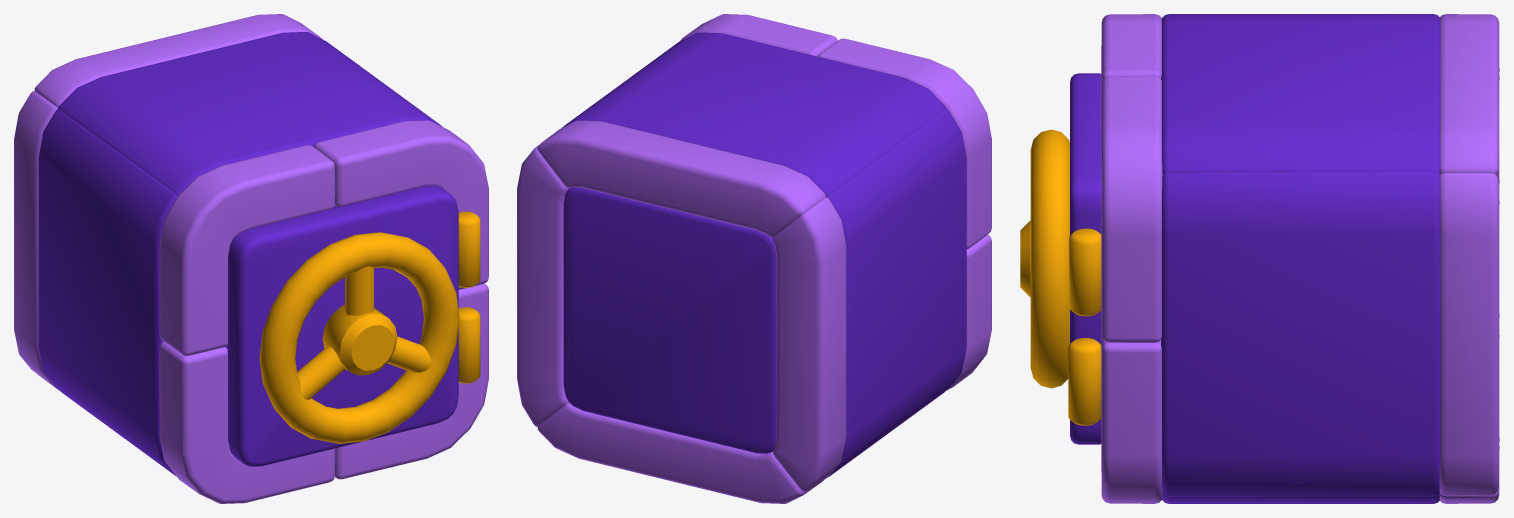
File: Safe.fbx
3 renders of one model, left to right at view 1: azimuth 30°, elevation 25°; view 2: azimuth 150°, elevation 25°; view 3: azimuth 270°, elevation 25°, orthographic. The views are drawn at different scales.
Visible parts, largest first — view 1: Cube.009, Cube.004, Cube.001, Cube.013, Torus, Cube.020, Cube.016, Cube.019, Cube.008, Cube.024, Cylinder.002, Cylinder.004 (+4 smaller); view 2: Cube.005, Cube.009, Cube.004, Cube.019, Cube.008, Cube.015, Cube.011, Cube.013, Cube.020, Cube.016; view 3: Cube.018, Cube.004, Cube.011, Cube.016, Torus, Cube.024, Cube.008, Cube.001, Cube.013, Cylinder.007, Cylinder.004, Cube.012 (+2 smaller).
Boxes of the visible parts, x1,y1,x2,y2 form: Cube.009: (38,108,177,473); Cube.004: (58,32,442,195); Cube.001: (227,185,458,466); Cube.013: (159,145,335,355); Torus: (259,232,459,443); Cube.020: (159,341,335,503); Cube.016: (314,120,488,289); Cube.019: (14,91,57,385); Cube.008: (34,14,321,107); Cube.024: (335,283,488,479); Cylinder.002: (322,305,397,375); Cylinder.004: (458,211,480,287); Cube.005: (563,187,776,453); Cube.009: (826,108,966,474); Cube.004: (563,32,946,196); Cube.019: (773,197,846,491); Cube.008: (537,120,825,237); Cube.015: (537,402,823,503); Cube.011: (517,145,568,426); Cube.013: (817,38,991,248); Cube.020: (948,234,991,389); Cube.016: (680,14,837,56); Cube.018: (1161,172,1440,496); Cube.004: (1161,14,1440,173); Cube.011: (1439,173,1499,495); Cube.016: (1101,75,1162,342); Torus: (1030,129,1069,388); Cube.024: (1101,329,1162,503); Cube.008: (1439,14,1499,186); Cube.001: (1070,73,1101,444); Cube.013: (1101,14,1161,107); Cylinder.007: (1068,338,1101,425); Cylinder.004: (1069,228,1101,316); Cube.012: (1162,493,1439,503).
Bounding box in the file's own units: 5.09 × 5.09 × 5.94.
